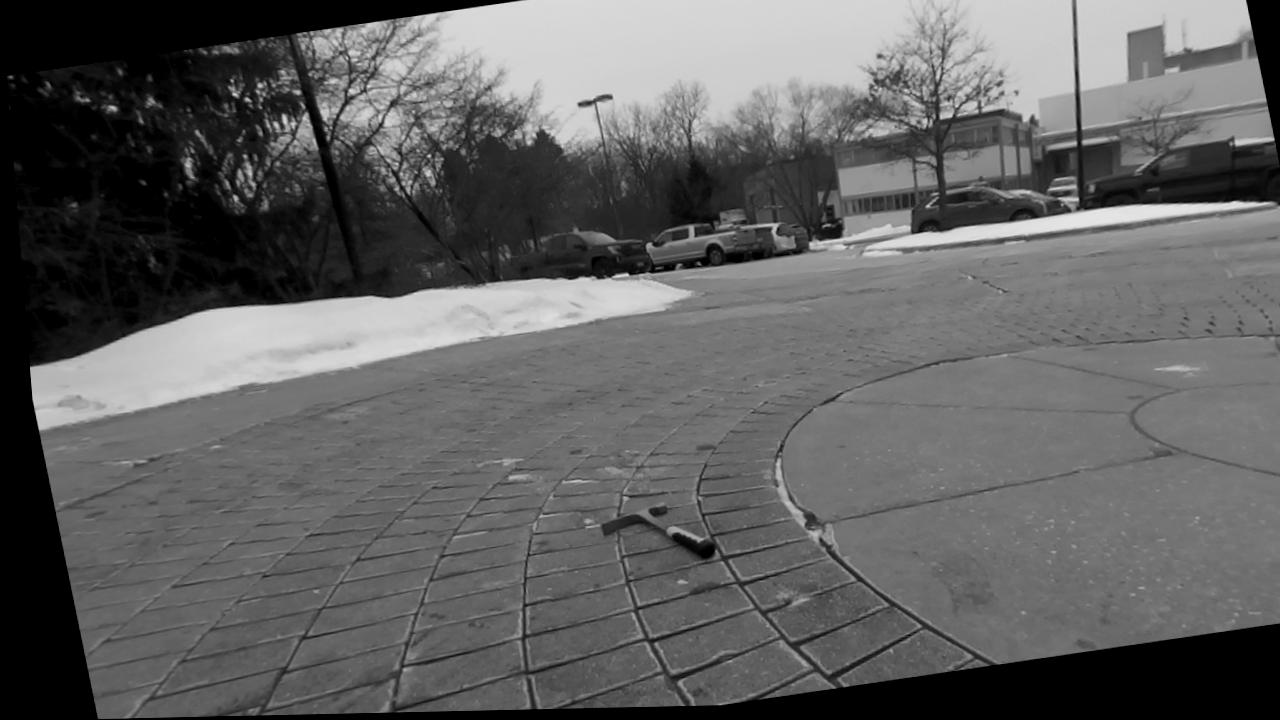pick: (600, 504, 716, 557)
